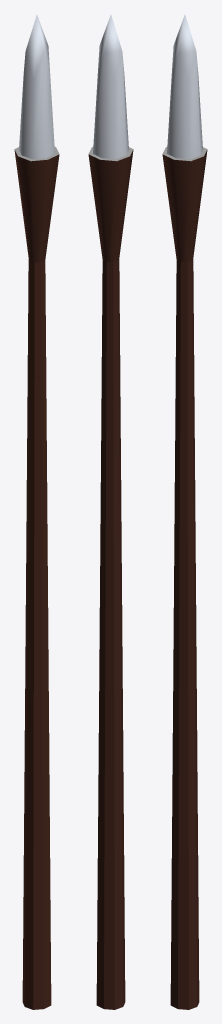
The model's file is Spear.fbx.
3 renders of one model, left to right at view 1: azimuth 30°, elevation 25°; view 2: azimuth 150°, elevation 25°; view 3: azimuth 330°, elevation 25°, orthographic.
Parts seen in each view (by area): view 1: Spear; view 2: Spear; view 3: Spear.
Part boxes in pixels (x1,y1,x2,y2): Spear: (14, 14, 59, 1009); Spear: (88, 14, 133, 1009); Spear: (162, 14, 207, 1009).
Bounding box in the file's own units: 0.7307 × 18.13 × 0.7307.
